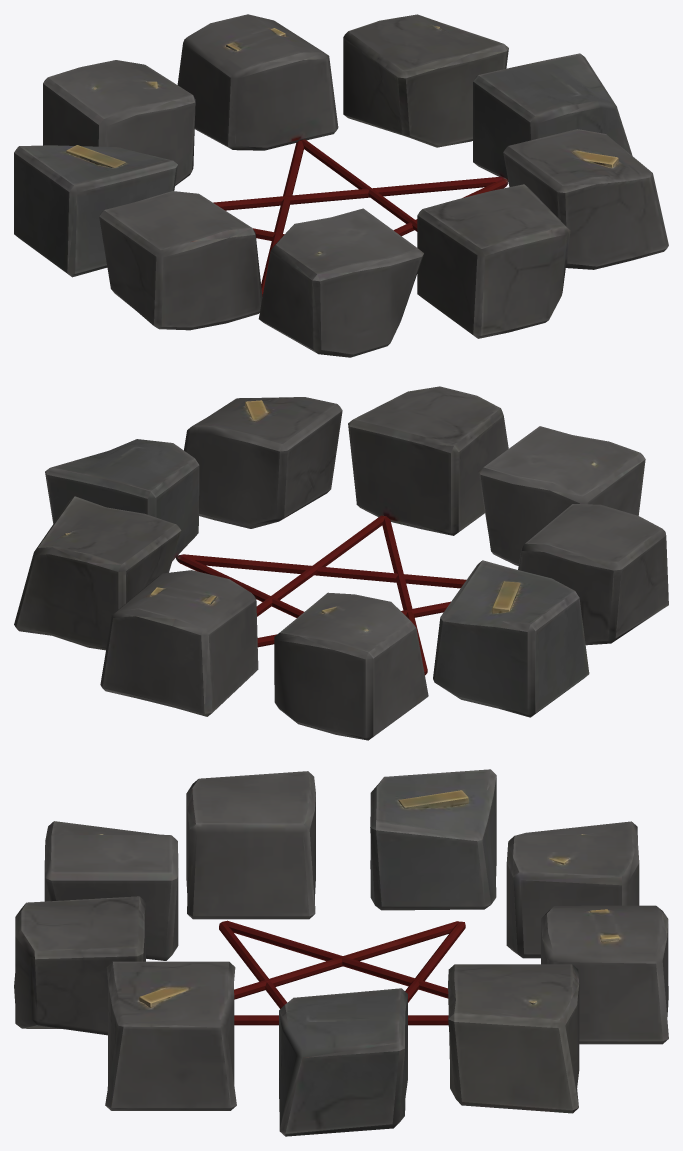
The model's file is summoning_circle_stones.glb.
3 views of the same model, one above another, from view 1: azimuth 30°, elevation 25°; view 2: azimuth 150°, elevation 25°; view 3: azimuth 270°, elevation 25° (orthographic). The views are drawn at different scales.
Visible parts, largest first — view 1: summoning_circle_stones; view 2: summoning_circle_stones; view 3: summoning_circle_stones.
Boxes of the visible parts, x1,y1,x2,y2 form: summoning_circle_stones: [14, 14, 668, 357]; summoning_circle_stones: [14, 386, 668, 740]; summoning_circle_stones: [14, 769, 668, 1136].
Size of the model in its own units: 0.8589 by 0.1448 by 0.8604.
Materials: 1 (1 with a texture image).
